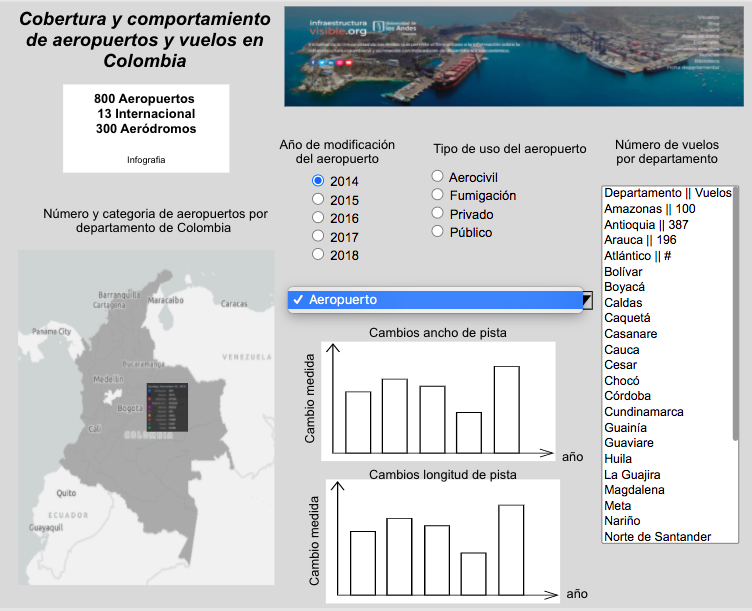

The page's visual inventory and layout, read from the dashboard file:
{"tool":"powerbi","page":{"name":"Página 1","canvas":[1280,720],"ordinal":0},"visuals":[{"type":"slicer","fields":{"Values":["aeropuertos.year"]},"box":[418.9,0,280.2,109.9],"z":0},{"type":"pivotTable","title":"Número de vuelos","fields":{"Rows":["aeropuertos.departamento"],"Columns":["aeropuertos.year"],"Values":["Sum(hecho_vuelos.vuelos)"]},"box":[954.5,104.4,325.5,615.3],"z":1000},{"type":"waterfallChart","title":"Cambios longitud de pista","fields":{"Category":["aeropuertos.year"],"Y":["Sum(aeropuertos.Column_longitud)"]},"box":[428.5,439.5,526,259.6],"z":2000},{"type":"esriVisual","title":"Número de aeropuertos por departamento","fields":{"Location":["aeropuertos.departamento"],"Color":["CountNonNull(aeropuertos.sigla)"]},"box":[0,0,418.9,719.7],"z":3000},{"type":"actionButton","box":[0,0,100,40],"z":4000},{"type":"slicer","fields":{"Values":["aeropuertos.tipo"]},"box":[699.1,0,337.9,109.9],"z":5000},{"type":"slicer","fields":{"Values":["aeropuertos.nombre"]},"box":[418.9,104.4,535.6,64.5],"z":6000},{"type":"waterfallChart","title":"Cambios ancho de pista","fields":{"Category":["aeropuertos.year"],"Y":["Sum(aeropuertos.Column_ancho)"]},"box":[418.9,168.9,526,255.5],"z":7000},{"type":"slicer","fields":{"Values":["aeropuertos.vigente"]},"box":[954.5,0,299.4,74.2],"z":7001}]}

Visuals, with their boxes on the page's 1280x720 design canvas (x1, y1, x2, y2). These are canvas units, not pixel positions in the 752x611 screenshot, which may show the page scaled, cropped or inside an application window:
slicer - aeropuertos.year: l=419, t=0, r=699, b=110
"Número de vuelos" pivotTable: l=954, t=104, r=1280, b=720
"Cambios longitud de pista" waterfallChart: l=428, t=440, r=954, b=699
"Número de aeropuertos por departamento" esriVisual: l=0, t=0, r=419, b=720
actionButton: l=0, t=0, r=100, b=40
slicer - aeropuertos.tipo: l=699, t=0, r=1037, b=110
slicer - aeropuertos.nombre: l=419, t=104, r=954, b=169
"Cambios ancho de pista" waterfallChart: l=419, t=169, r=945, b=424
slicer - aeropuertos.vigente: l=954, t=0, r=1254, b=74
